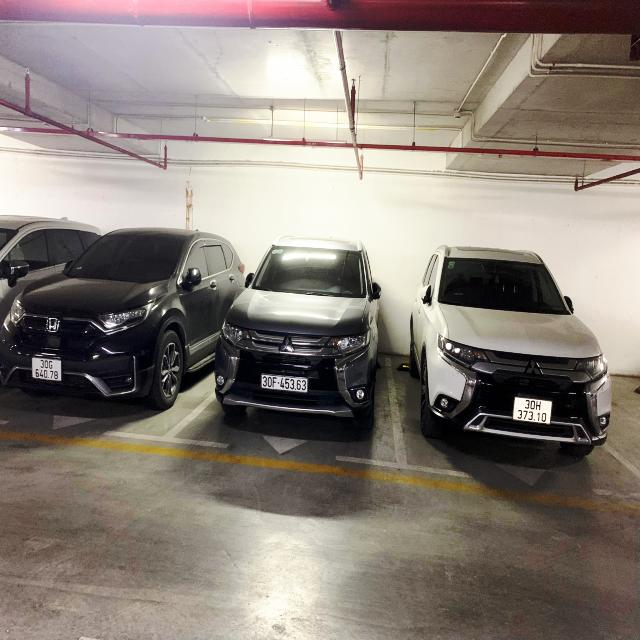license_plate: (261, 373, 309, 395), (515, 398, 553, 425), (32, 355, 64, 382)
